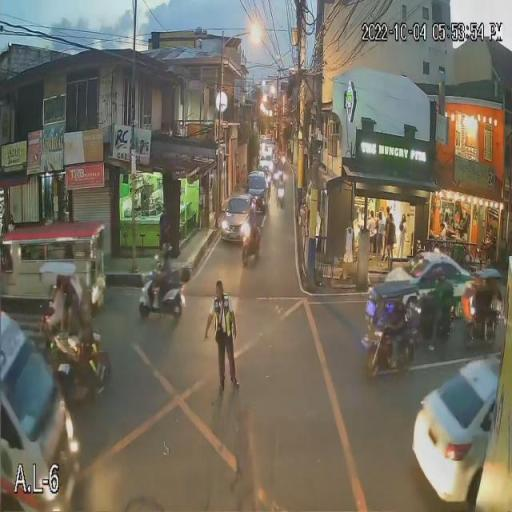helmet: (160, 242, 173, 260)
motorcycle: (138, 278, 186, 319)
rider: (151, 262, 173, 308)
